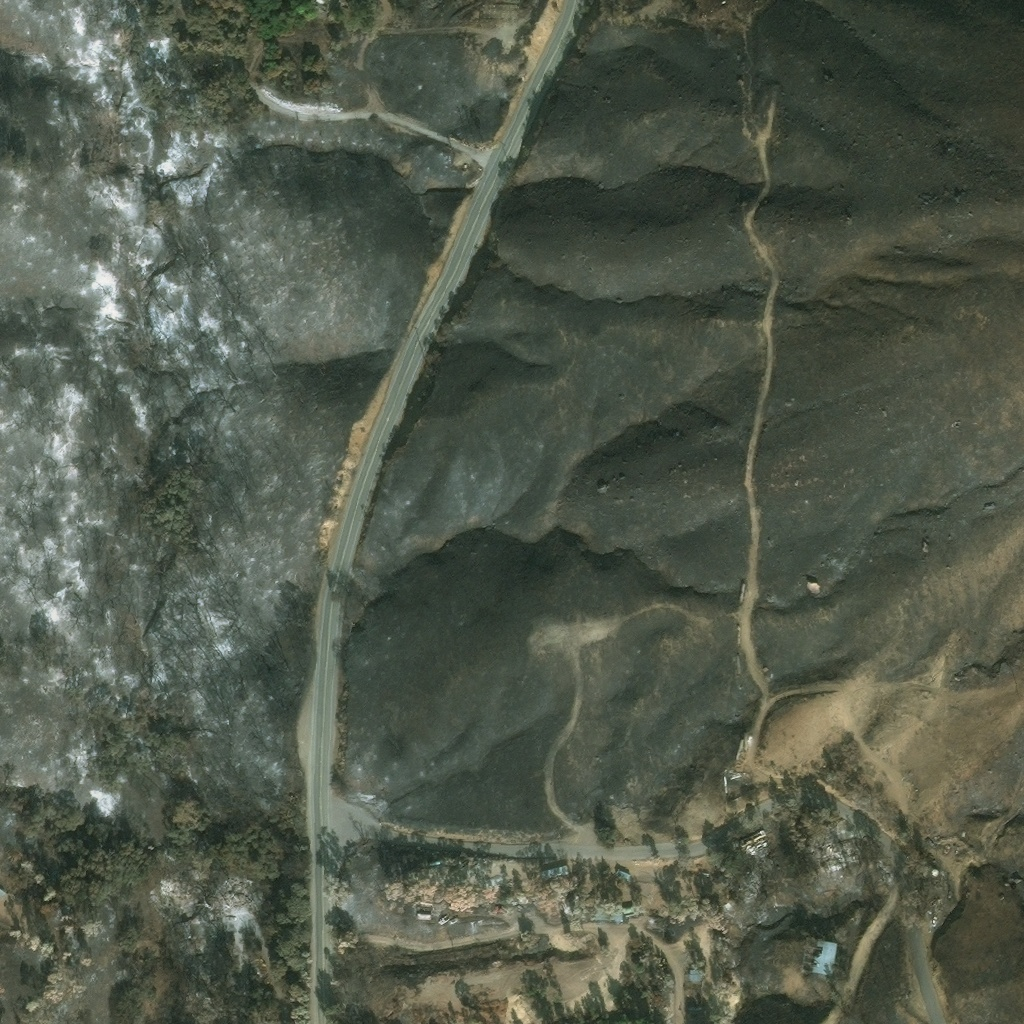0 no-damage: (542, 866, 570, 881), (613, 870, 630, 884), (686, 970, 700, 982), (621, 908, 633, 921), (807, 582, 819, 592), (611, 915, 622, 923), (931, 869, 939, 877)
1 minor-damage: (416, 915, 431, 921), (0, 887, 7, 899)
2 major-damage: (810, 940, 837, 976)
3 destroyed: (747, 833, 771, 859), (482, 4, 519, 19), (311, 0, 334, 12), (222, 917, 237, 929), (415, 906, 434, 915), (931, 897, 942, 912), (920, 838, 933, 850)
